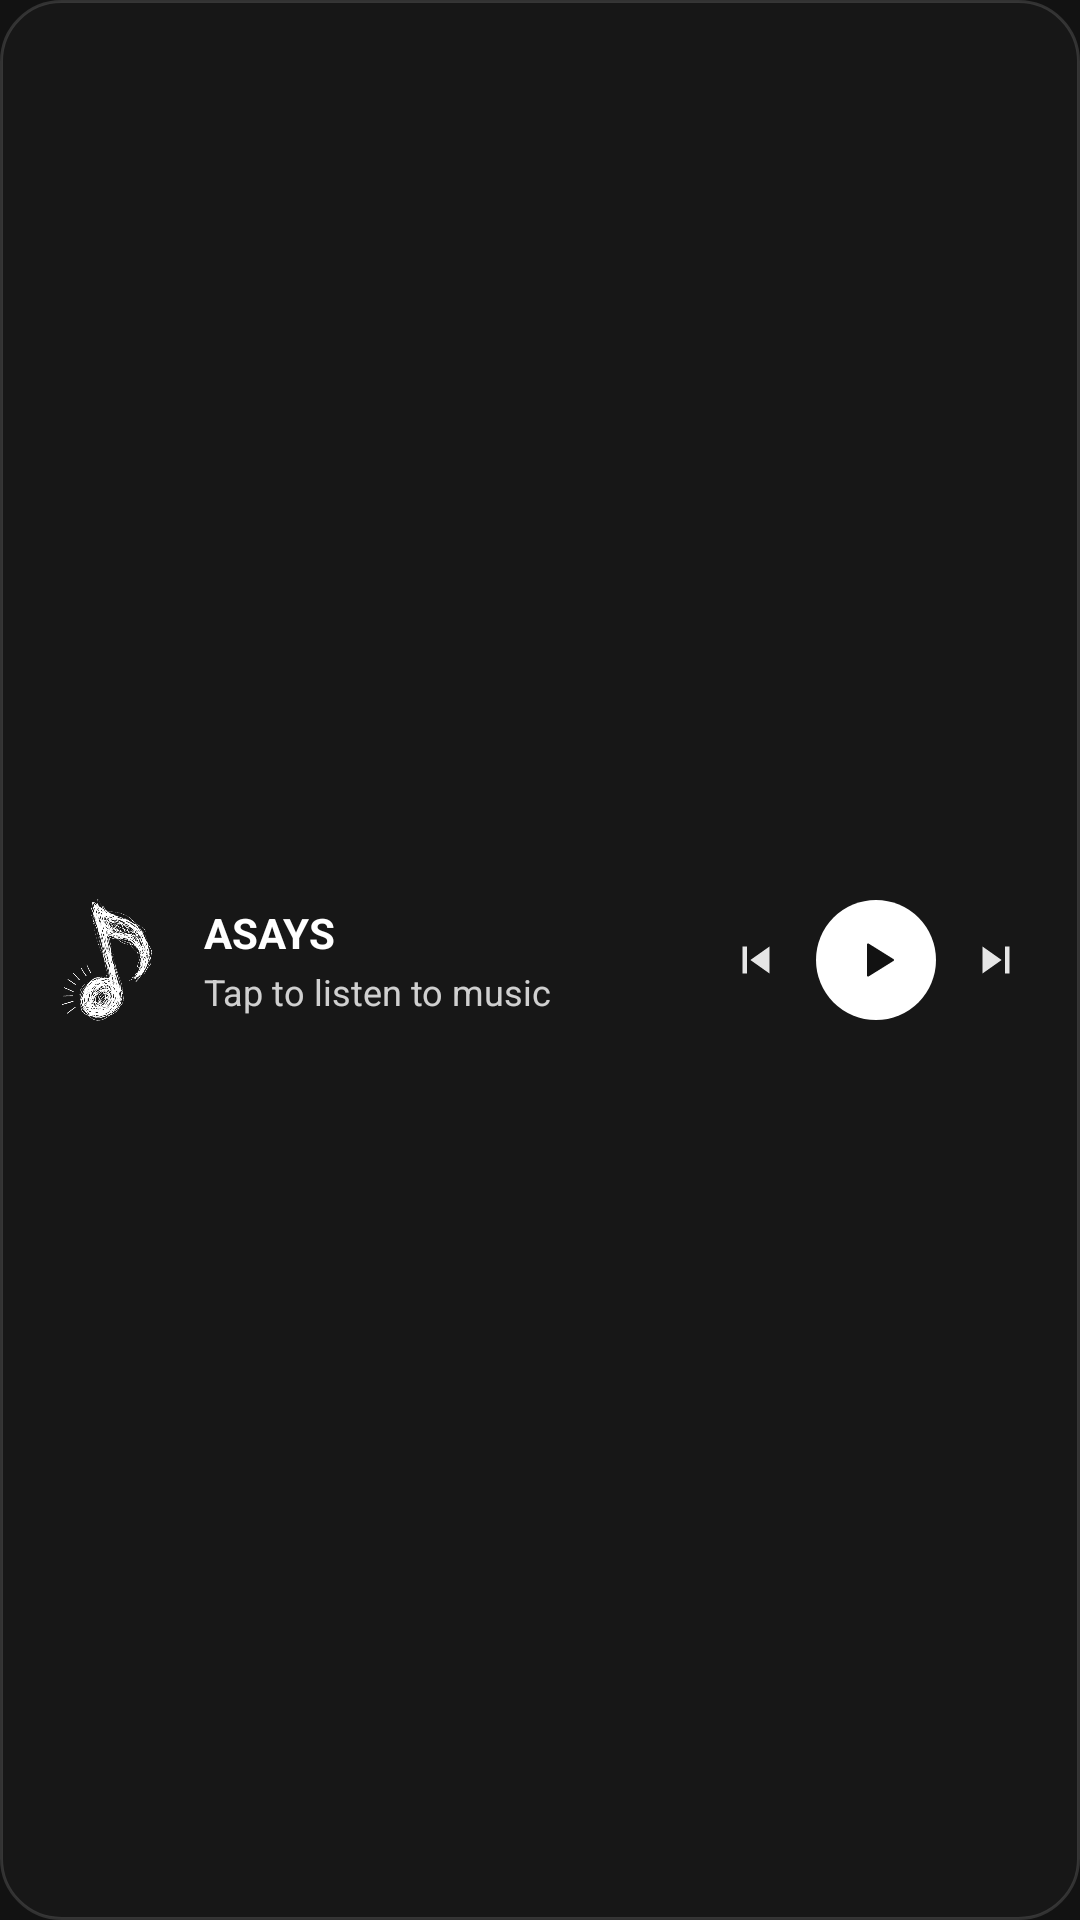

Icons on this 1080*1920 Android screen, each with its box as region(x1, y1, x2, y2):
Next: region(982, 946, 1010, 974)
Play: region(816, 900, 936, 1020)
Previous: region(742, 946, 770, 974)
